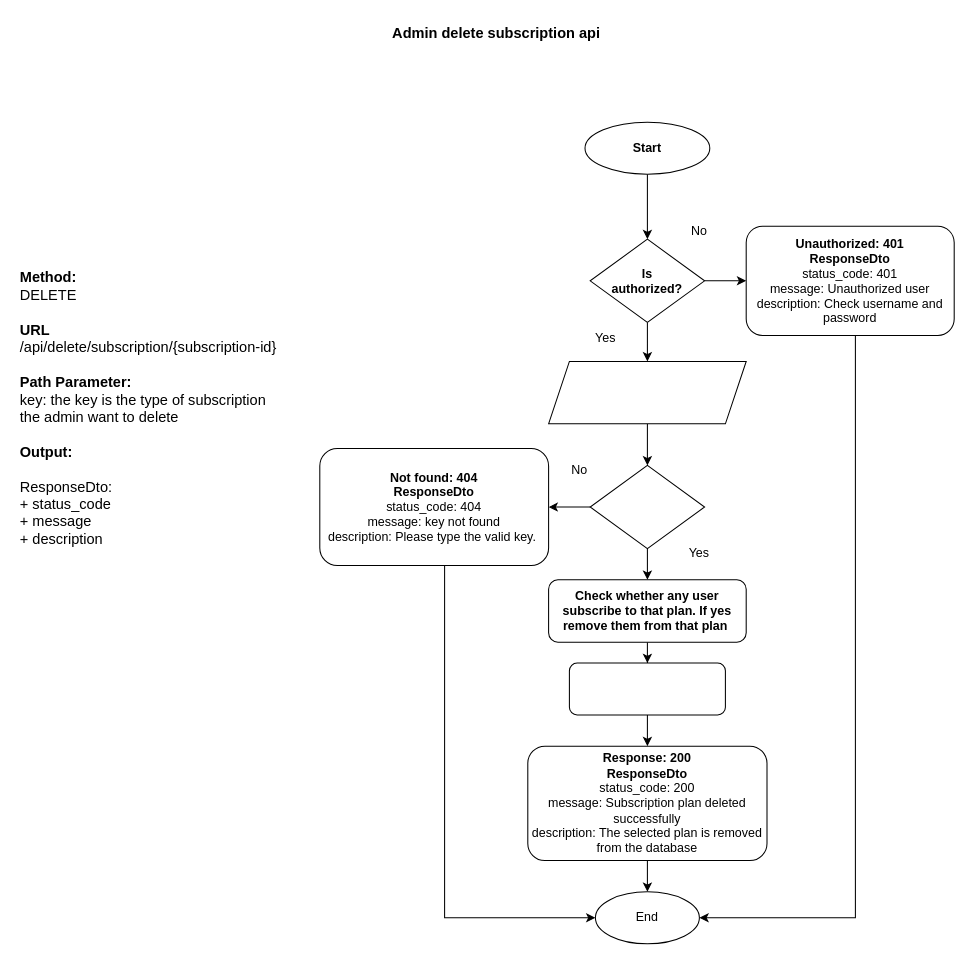
Some shapes in this 972 by 962 pixel diagram are drawn without their labels. Each missing label, with the box of its shape:
Admin Input: Path parameter subscription-id: (548, 360, 746, 424)
Delete the subscription plan from the table: (568, 662, 725, 715)
Is valide subscription-id?: (589, 464, 705, 549)
